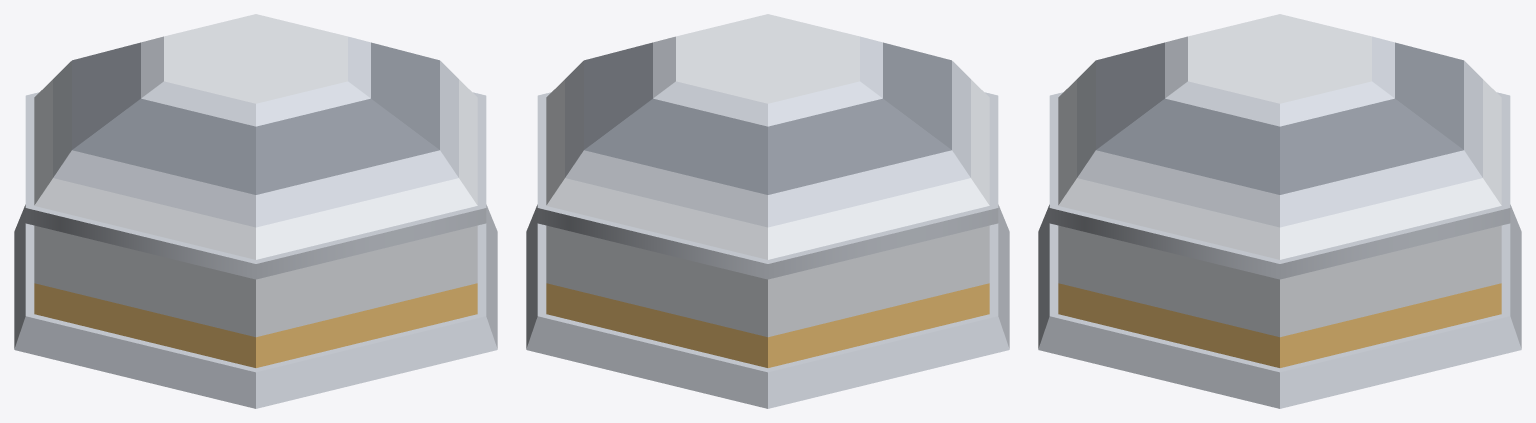
The model's file is tech.glb.
3 views of the same model, side by side, from view 1: azimuth 30°, elevation 25°; view 2: azimuth 150°, elevation 25°; view 3: azimuth 270°, elevation 25° (orthographic).
Parts seen in each view (by area): view 1: hangar_roundA, hangar_roundGlass; view 2: hangar_roundA, hangar_roundGlass; view 3: hangar_roundA, hangar_roundGlass.
Part boxes in pixels (left/top/right/bottom): hangar_roundA: left=25, top=14, right=486, bottom=367; hangar_roundGlass: left=14, top=204, right=497, bottom=408; hangar_roundA: left=537, top=14, right=998, bottom=367; hangar_roundGlass: left=526, top=204, right=1009, bottom=408; hangar_roundA: left=1049, top=14, right=1510, bottom=367; hangar_roundGlass: left=1038, top=204, right=1521, bottom=408.
Bounding box in the file's own units: 3.27 × 1.5 × 2.83.
